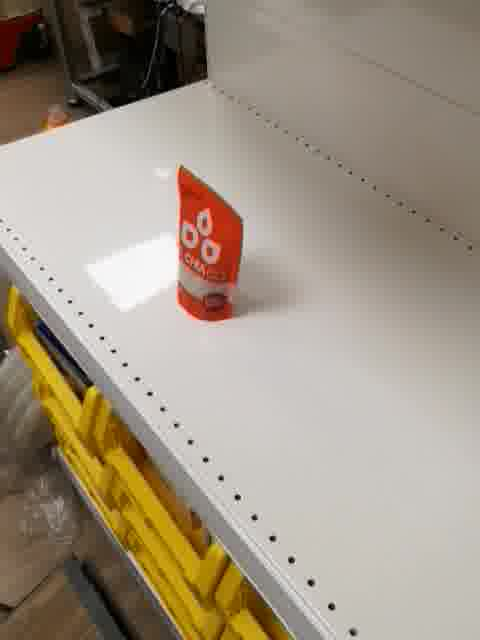whitechia: (172, 161, 250, 327)
